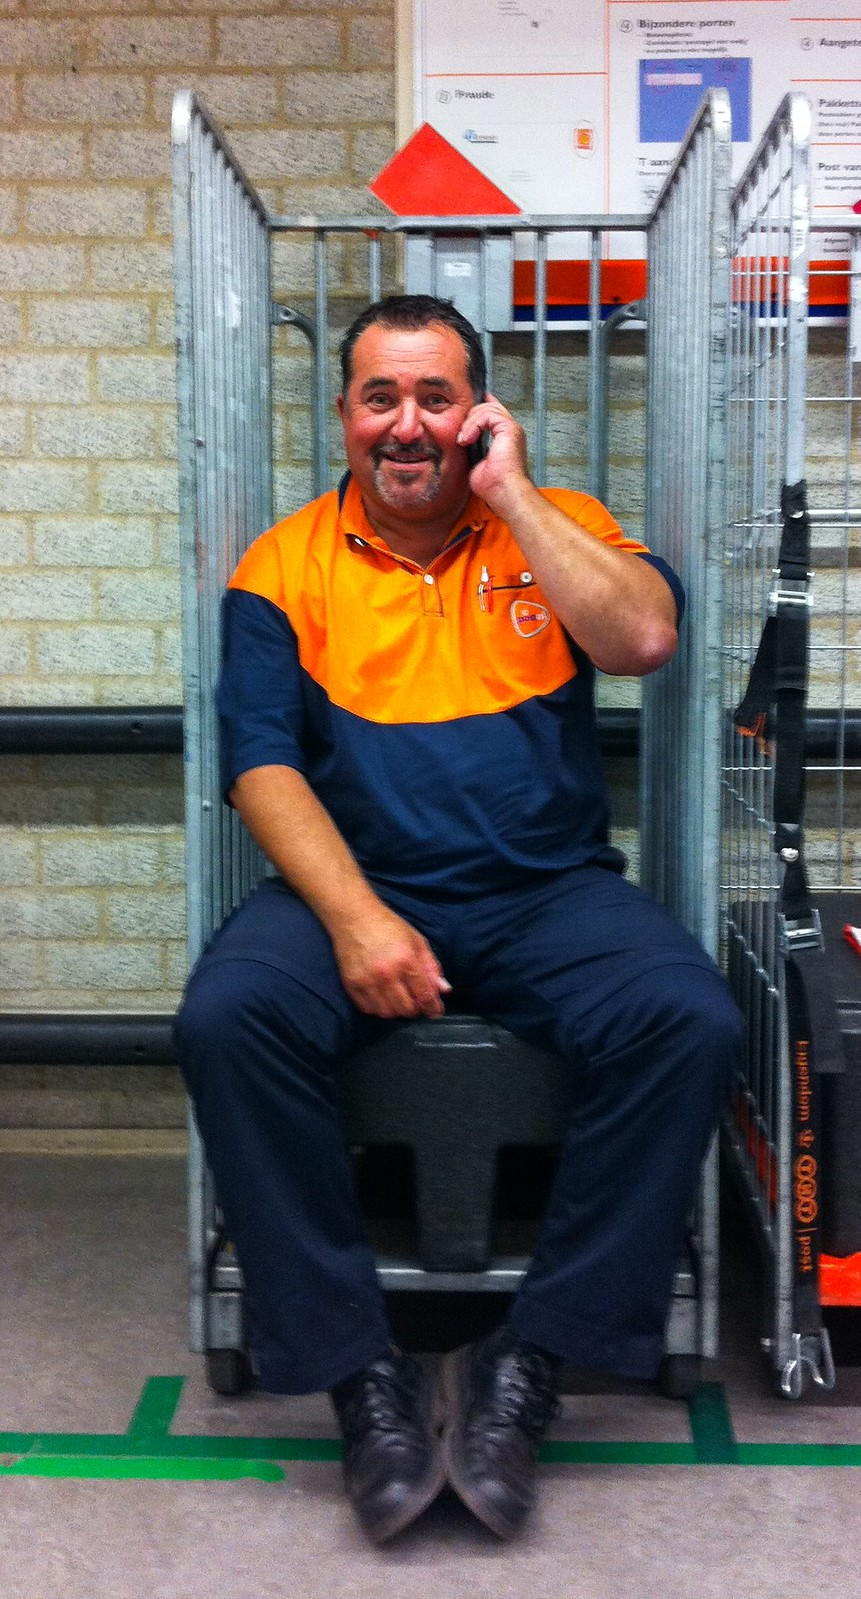phone: (467, 400, 535, 530)
talk: (355, 371, 553, 544)
